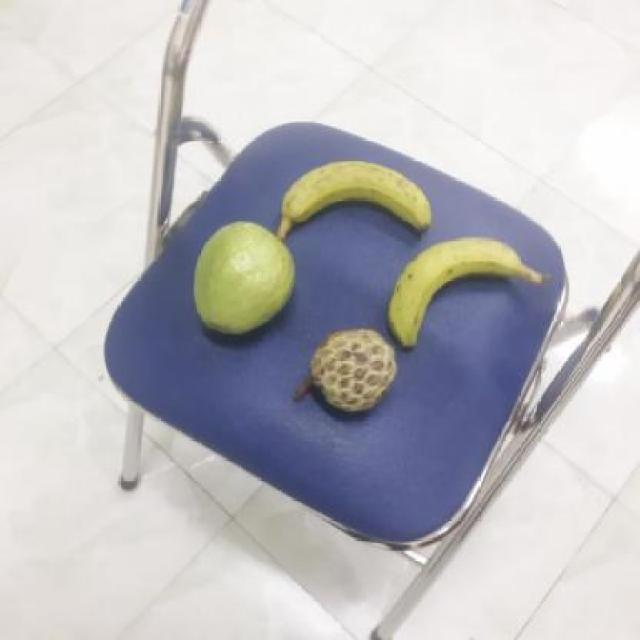banana: (380, 238, 514, 350), (276, 163, 433, 243)
guava: (190, 222, 298, 336)
sugar apple: (293, 328, 396, 411)
